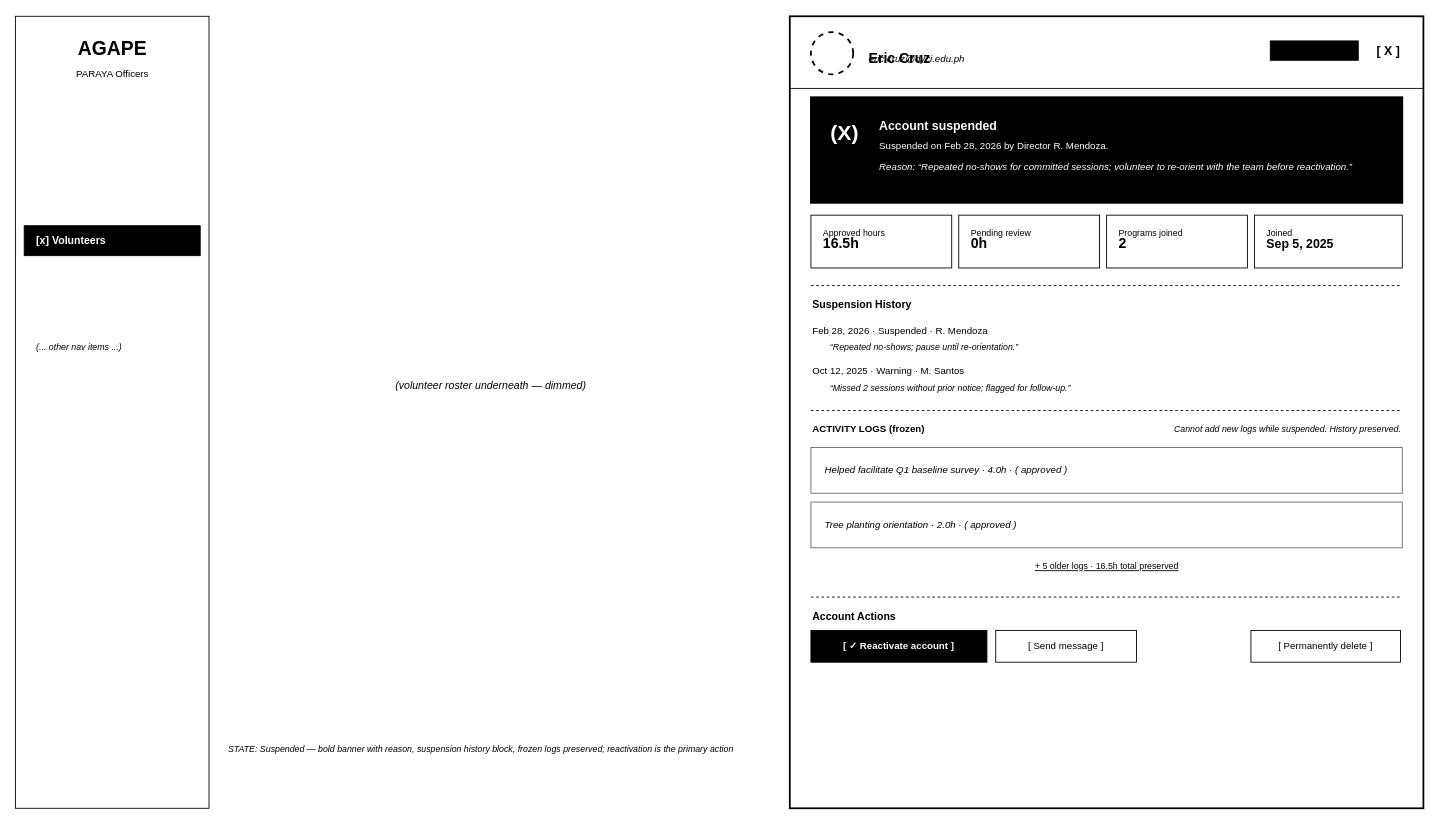
The diagram is 1440 pixels wide and 824 high, and some of its shapes have lost their labels. The shapes that lost their labels are listed below. From the top down, each one's centre as x and y in pixels, then its label:
the point at 832,53: EC
the point at 1313,50: ( suspended )
